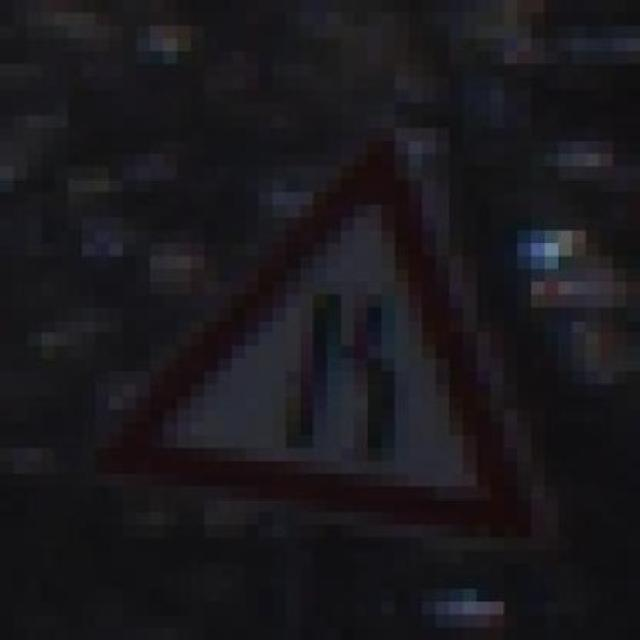-Road narrows on right: (68, 128, 544, 550)
